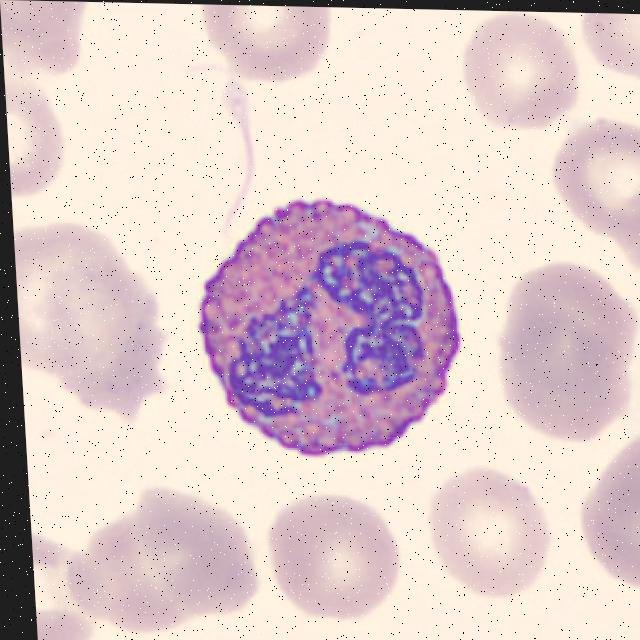eosinophil: (183, 189, 489, 467)
rbc: (495, 246, 640, 403), (266, 498, 411, 630), (13, 222, 134, 380), (51, 291, 186, 429), (423, 466, 556, 603), (500, 328, 640, 455), (134, 492, 262, 621), (459, 11, 582, 135), (195, 4, 354, 97), (64, 530, 183, 637), (543, 112, 640, 243), (4, 72, 92, 209), (569, 438, 640, 604), (31, 527, 115, 640), (0, 0, 98, 78), (609, 158, 640, 297), (580, 13, 640, 81)
